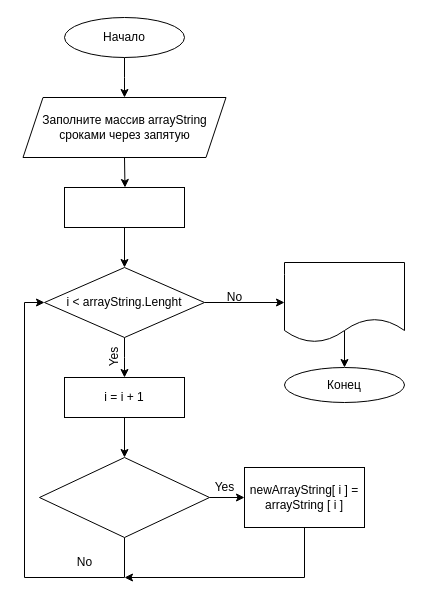
This 422x603 diagram has some shape labels left out. Here are the shapes that lost their labels. From the top down, the box of each, then its label:
(64, 186, 184, 228): i = 0 newArrayString[ ]
(284, 262, 404, 342): newArrayString[ ]
(38, 456, 210, 538): arrayString[i].Lenght <=3
